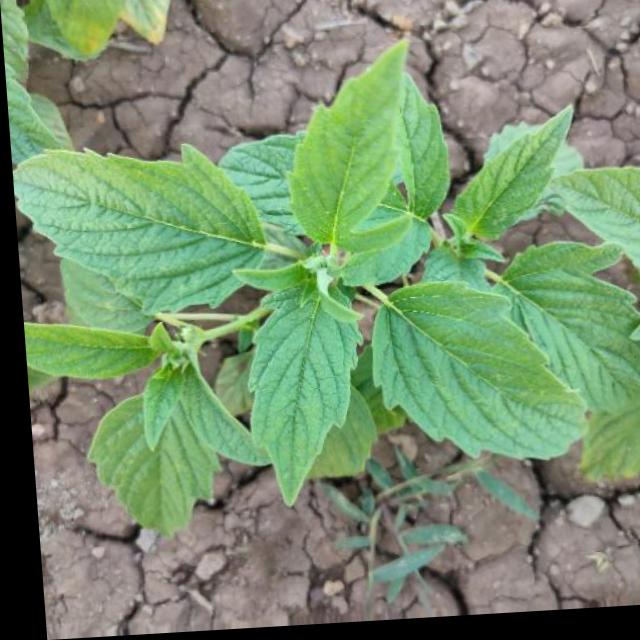weed: (22, 35, 640, 513)
